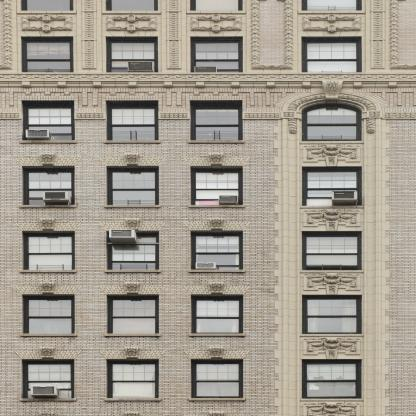Building Outline: (0, 0, 415, 416)
Cornice: (287, 81, 376, 134), (183, 346, 252, 359), (14, 346, 83, 359), (98, 346, 167, 359), (14, 153, 83, 166), (98, 153, 167, 166), (183, 217, 252, 230), (14, 217, 83, 230), (99, 217, 168, 230), (183, 281, 252, 294), (14, 281, 83, 294), (99, 281, 168, 294), (183, 153, 251, 166), (21, 97, 74, 101), (190, 97, 242, 101), (106, 97, 158, 101)
Deco: (303, 144, 360, 166), (303, 209, 360, 231), (303, 273, 360, 295), (303, 337, 360, 359), (302, 15, 362, 32), (21, 14, 73, 32), (106, 15, 158, 32), (190, 15, 242, 32), (303, 402, 360, 416)
Facade: (0, 0, 415, 416)
Floor: (1, 350, 415, 412), (1, 285, 415, 346), (1, 221, 415, 281), (1, 157, 415, 217), (1, 92, 415, 152), (1, 32, 415, 88), (0, 0, 415, 28)
Floor Slab: (1, 28, 415, 32), (1, 412, 415, 416), (1, 346, 415, 350), (1, 281, 415, 285), (1, 217, 415, 221), (1, 153, 415, 157), (1, 88, 415, 92)
Molding: (0, 72, 416, 88), (242, 112, 281, 120), (383, 112, 416, 120), (74, 112, 106, 120), (159, 112, 191, 120), (0, 112, 21, 119)
Pillar: (250, 0, 293, 69), (389, 0, 415, 69), (369, 0, 385, 69), (166, 0, 180, 69), (82, 0, 96, 69), (0, 0, 11, 69)
Sill: (188, 140, 246, 144), (20, 140, 78, 144), (103, 140, 161, 144), (188, 205, 246, 209), (20, 205, 78, 209), (103, 205, 161, 209), (20, 333, 78, 337), (188, 399, 246, 402), (20, 399, 78, 402), (103, 399, 161, 402), (188, 270, 246, 273), (20, 270, 78, 273), (104, 270, 162, 273), (188, 334, 246, 337), (103, 334, 161, 337)
Window: (302, 359, 362, 399), (302, 166, 362, 206), (301, 102, 362, 141), (302, 231, 362, 270), (302, 295, 362, 334), (21, 100, 74, 140), (107, 230, 160, 270), (107, 294, 160, 334), (106, 100, 158, 140), (191, 100, 243, 140), (191, 230, 243, 270), (191, 294, 243, 334), (190, 359, 243, 398), (22, 359, 75, 398), (106, 359, 159, 398), (190, 166, 243, 205), (21, 166, 74, 205), (106, 166, 159, 205), (22, 231, 75, 270), (22, 295, 75, 334), (302, 37, 361, 72), (21, 37, 73, 72), (106, 37, 158, 72), (191, 37, 243, 72), (191, 0, 243, 11), (21, 0, 73, 11), (106, 0, 158, 11)
